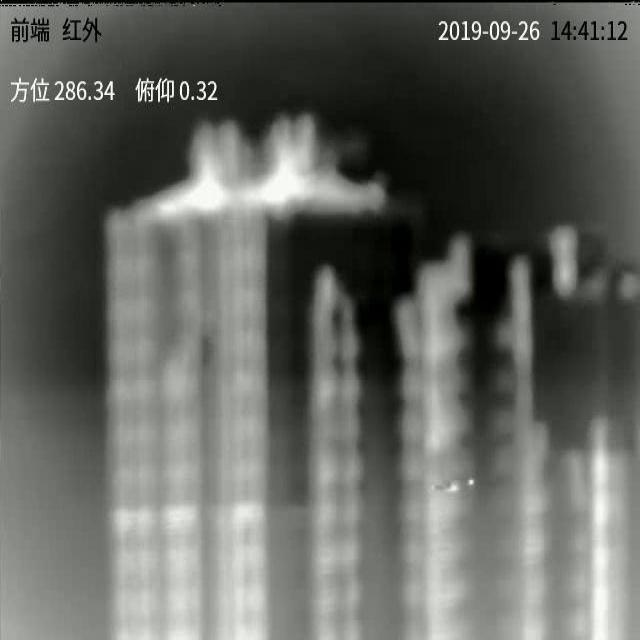drone: (433, 478, 476, 492)
